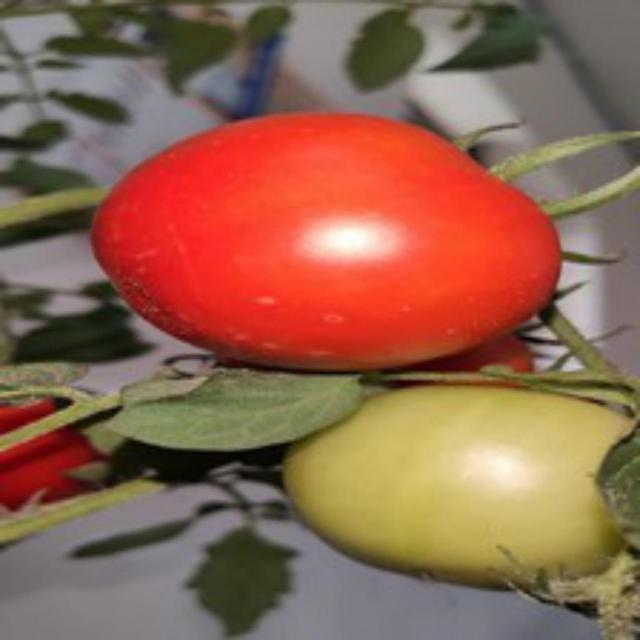tomato: (90, 107, 578, 369)
